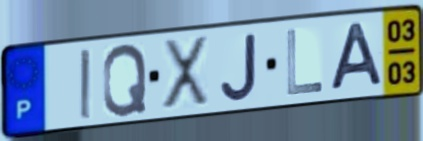A: (328, 20, 386, 94)
I: (78, 47, 94, 122)
J: (219, 31, 259, 103)
L: (284, 27, 325, 98)
Q: (101, 41, 149, 119)
X: (160, 33, 211, 111)
